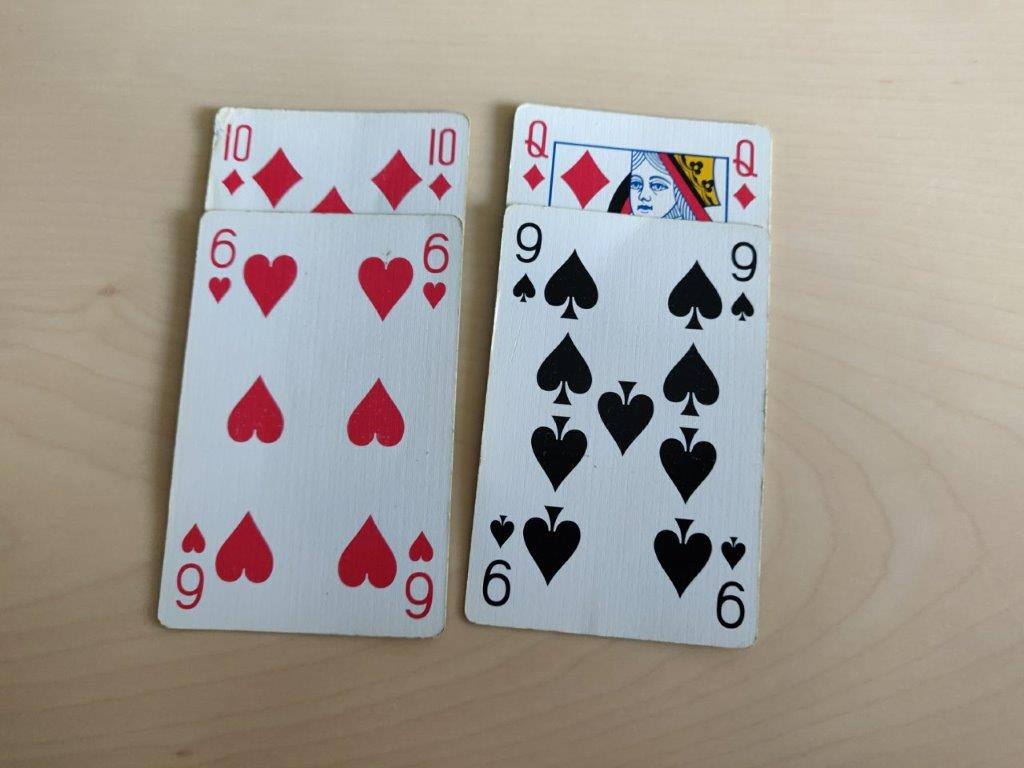10D: (215, 116, 253, 199), (423, 122, 461, 205)
6H: (204, 221, 239, 307), (416, 230, 451, 316)
9S: (508, 216, 546, 305), (724, 235, 762, 324)
QD: (729, 134, 761, 212), (519, 118, 551, 191)
